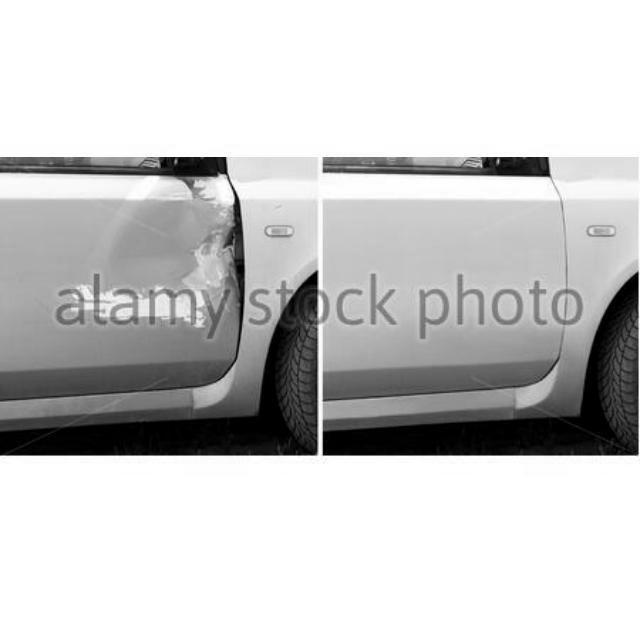doorouter-dent: (0, 172, 258, 391)
